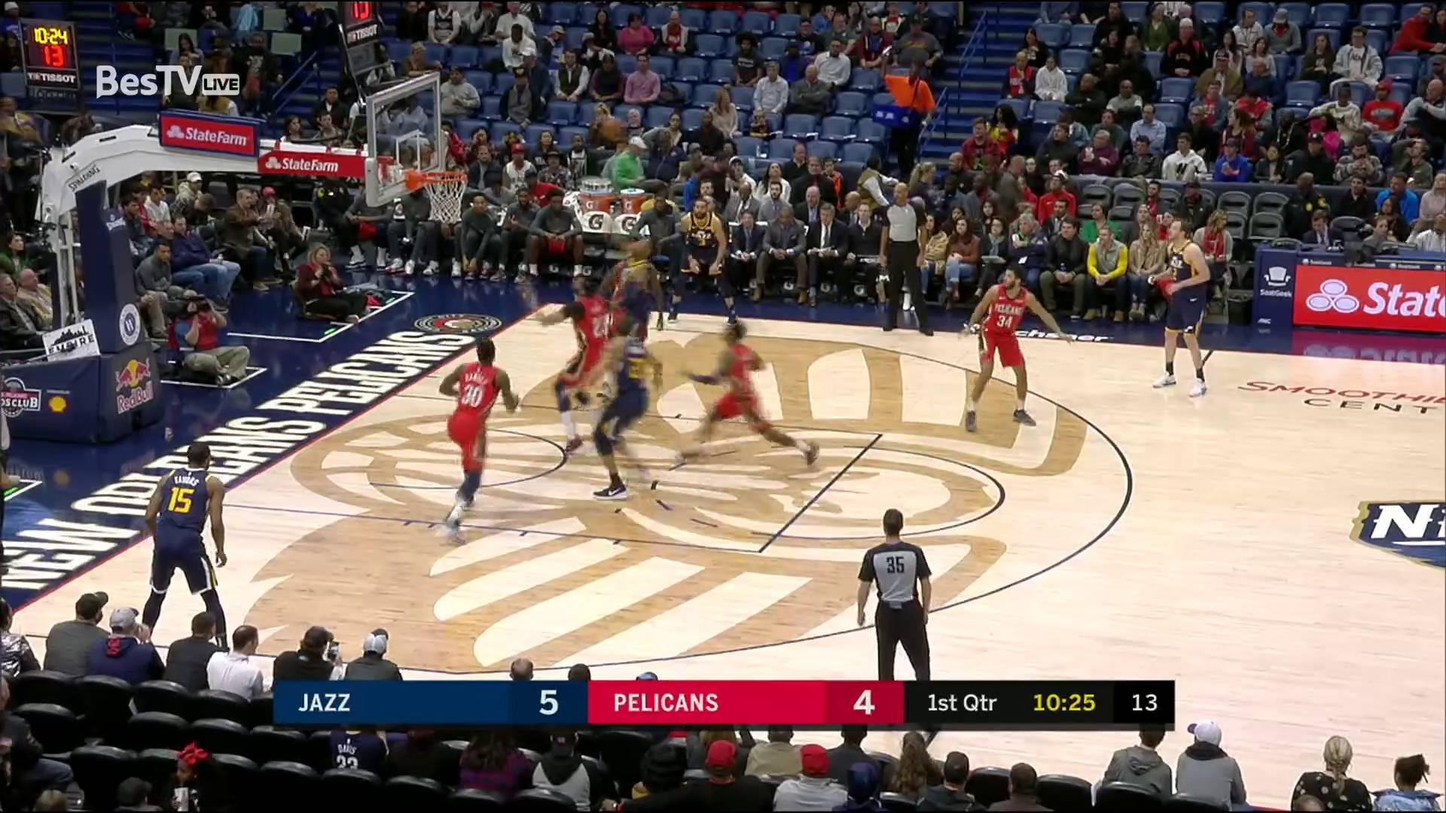basketball: (600, 115, 625, 143)
